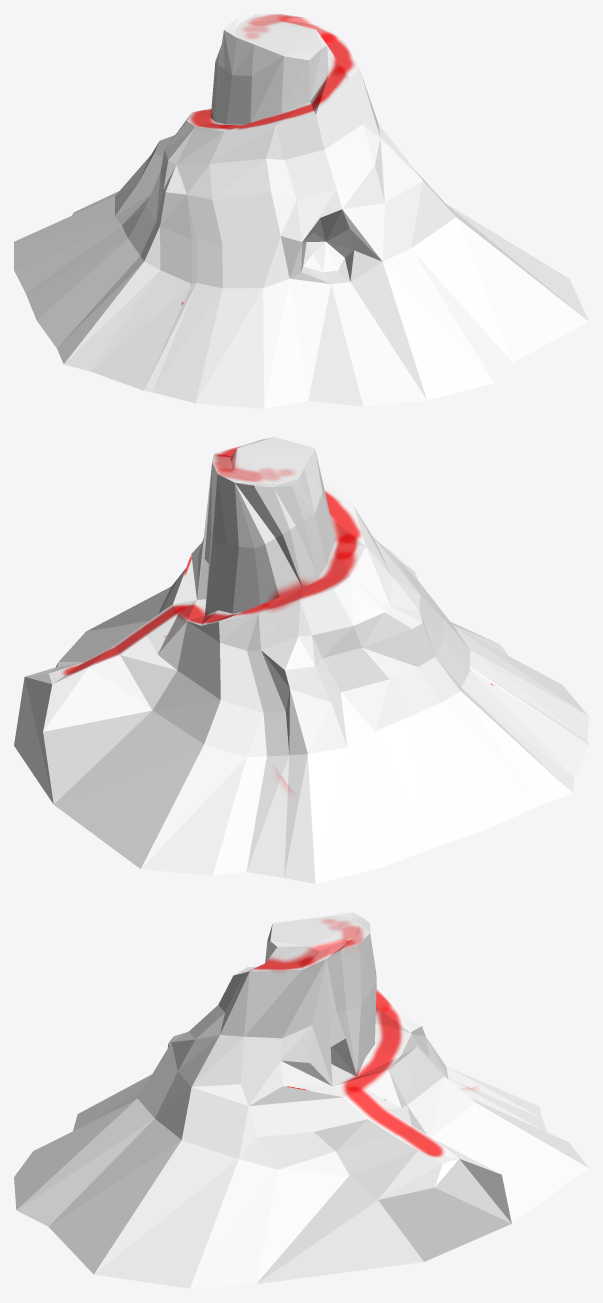
Rendered from goat_land.glb.
3 renders of one model, top to bottom at view 1: azimuth 30°, elevation 25°; view 2: azimuth 150°, elevation 25°; view 3: azimuth 270°, elevation 25°, orthographic. The views are drawn at different scales.
Parts seen in each view (by area): view 1: Plane.002; view 2: Plane.002; view 3: Plane.002.
Part boxes in pixels (x1=…): Plane.002: x1=14, y1=14, x2=588, y2=408; Plane.002: x1=14, y1=437, x2=588, y2=883; Plane.002: x1=14, y1=912, x2=588, y2=1288.
Bounding box in the file's own units: 83.8 × 43.43 × 90.45.
Materials: 1 (1 with a texture image).
